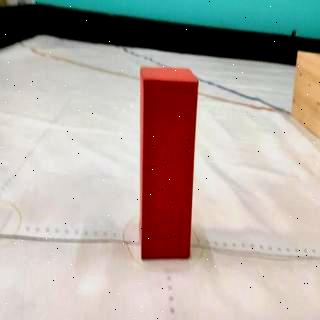redbox: (138, 66, 200, 262)
